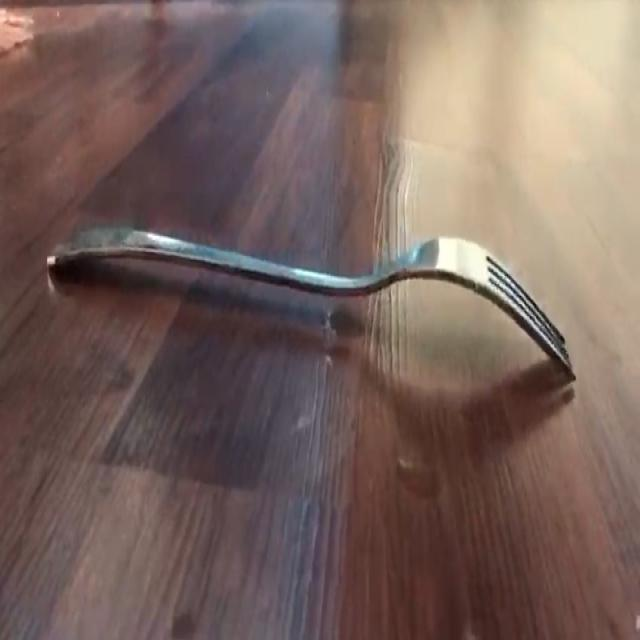spoon: (48, 227, 574, 377)
